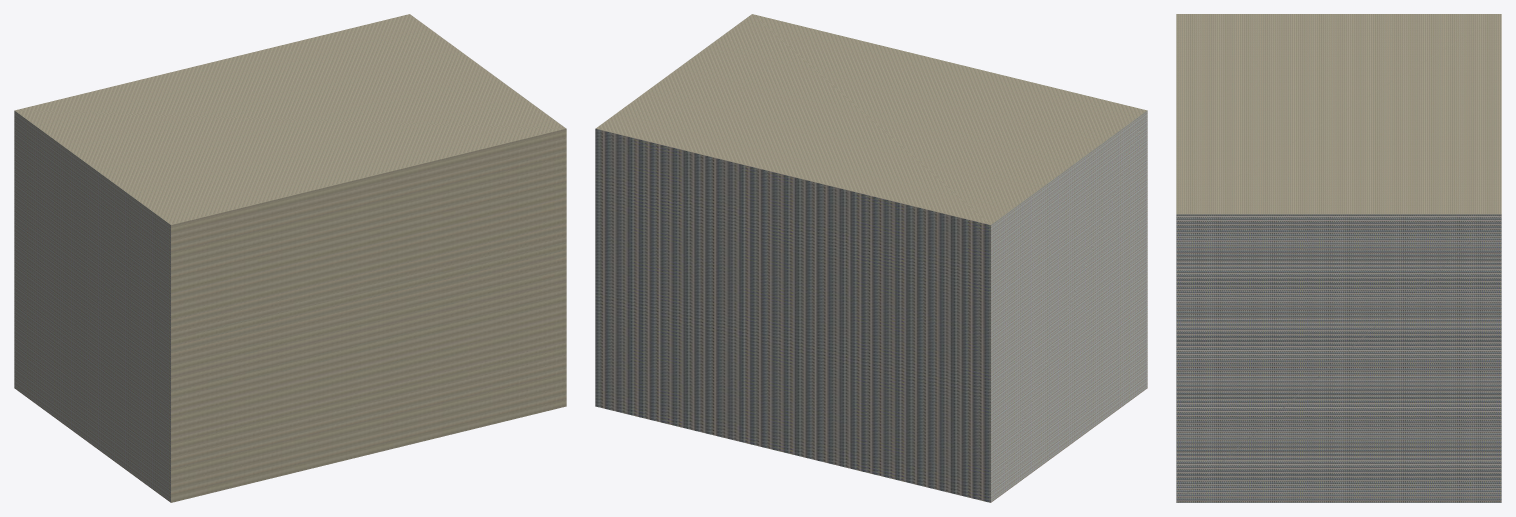
The picture shows the model from 3 angles, left to right: view 1: azimuth 30°, elevation 25°; view 2: azimuth 150°, elevation 25°; view 3: azimuth 270°, elevation 25°; orthographic projection. The views are drawn at different scales.
Visible parts, largest first — view 1: Cube; view 2: Cube; view 3: Cube.
Part boxes in pixels (x1,y1,x2,y2): Cube: (14,14,566,502); Cube: (595,14,1147,502); Cube: (1176,14,1501,502).
Size of the model in its own units: 278 by 187 by 191.
Materials: 1 (1 with a texture image).
